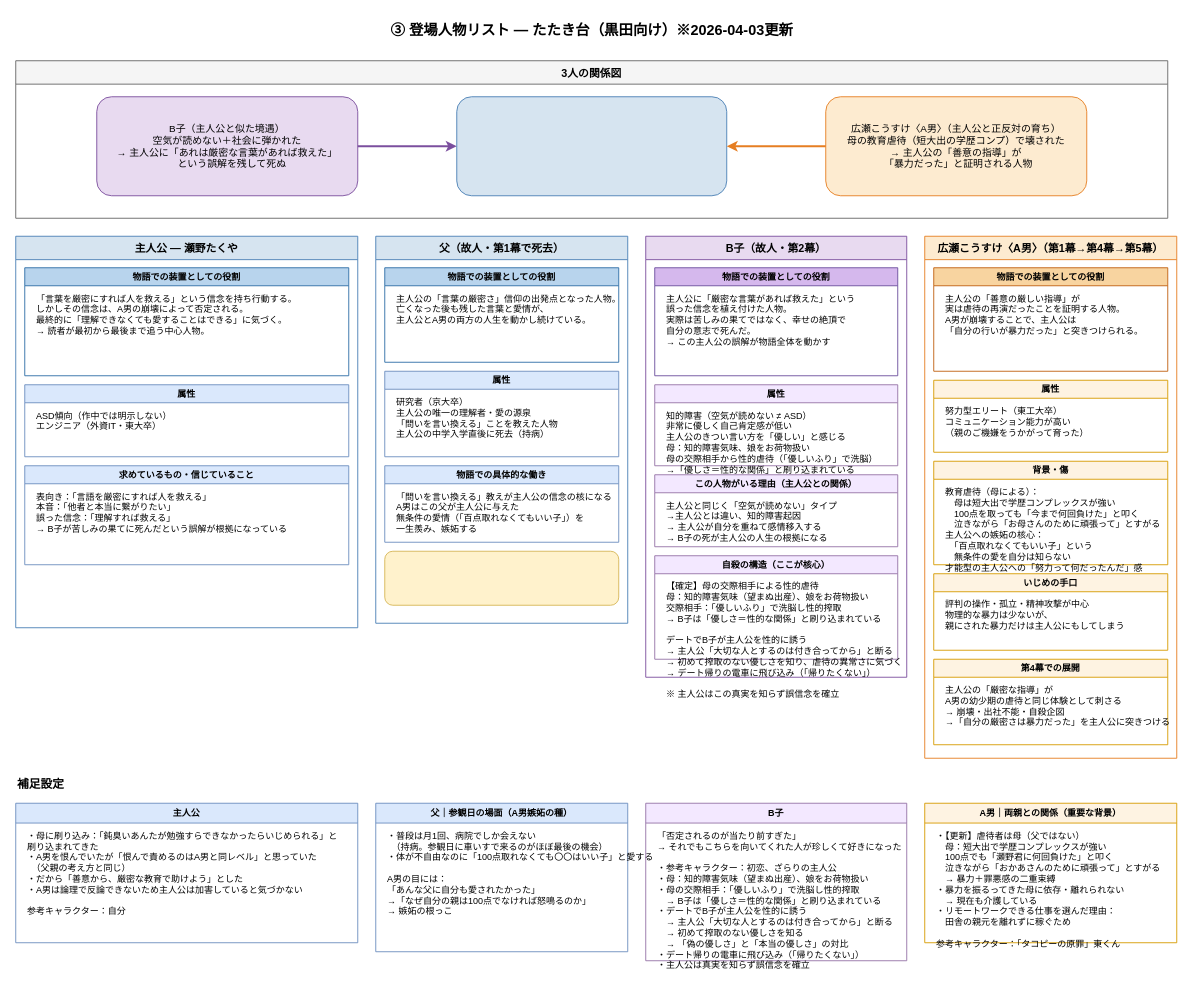
Image size: 1193x986. Some labels were removed from this diagram. Here are the shapes that lost their labels. From the top down, the centre of each, then its label:
At [591,146]: "瀬野たくや（主人公） B子の死を誤解して背負い、A男を傷つけてしまう → 最終的に「理解できなくても愛せる」にたどり着く".
At [501,577]: "代表台詞 「百点取れなくても、お前はいい子なんだよ」 → A男が一生引きずる言葉".
